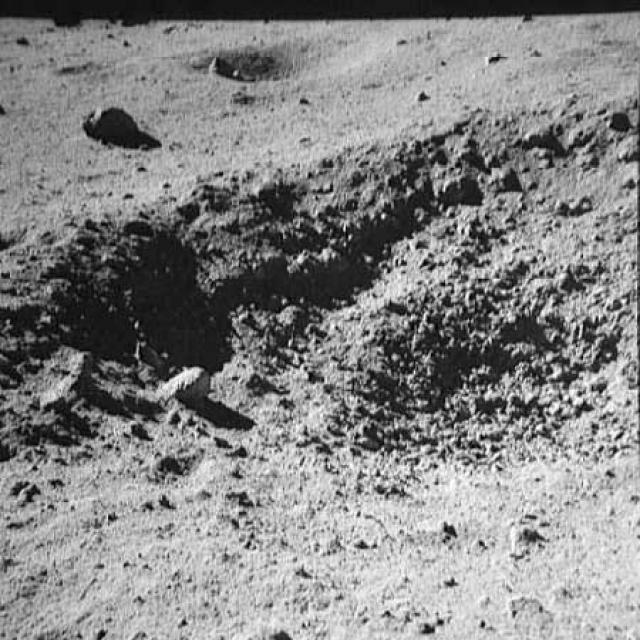crater: (196, 40, 370, 78)
rock: (47, 344, 101, 403), (147, 364, 226, 402), (78, 102, 149, 144), (498, 523, 552, 558), (436, 161, 475, 205), (520, 118, 552, 147)
